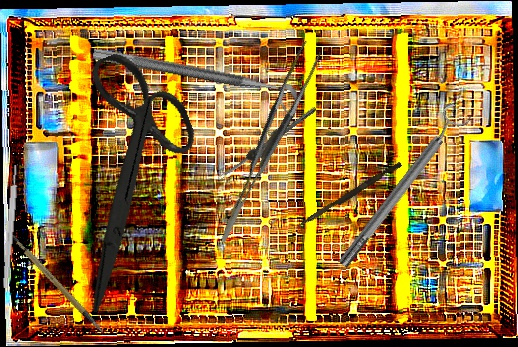Fixation Ring: (328, 100, 475, 274), (88, 46, 303, 117)
Iris Scissors: (10, 37, 242, 313)
Pusher: (294, 159, 403, 233)
Scalpel Handle: (8, 224, 106, 347), (1, 164, 20, 289)
Surgical Spoon: (216, 106, 318, 181)
Tissue Forceps: (189, 40, 341, 243)
